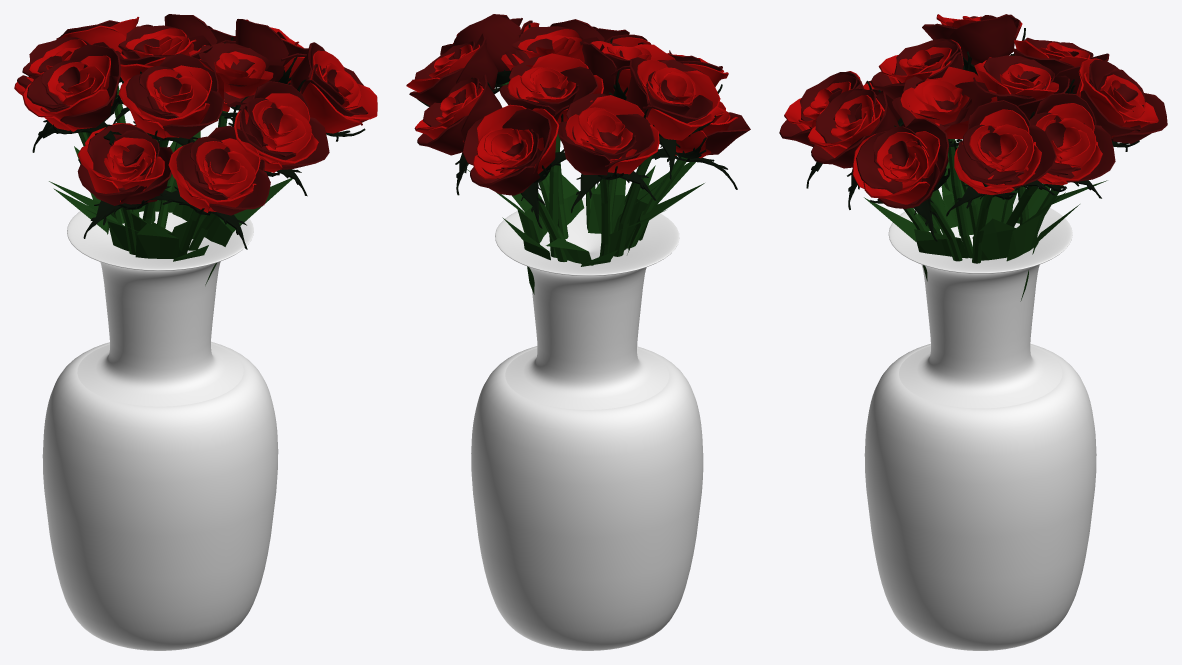
Rendered from roseVase2.FBX.
The picture shows the model from 3 angles, left to right: view 1: azimuth 30°, elevation 25°; view 2: azimuth 150°, elevation 25°; view 3: azimuth 270°, elevation 25°; orthographic projection.
Parts seen in each view (by area): view 1: Flowerpot, rosePad144, Plane025, roseGroupLeaf, rosePad230, roseGroupLeaf008, rosePad234, rosePad208, rosePad195, rosePad222, rosePad243, rosePad201 (+23 smaller); view 2: Flowerpot, rosePad157, rosePad248, rosePad261, rosePad269, Plane031, rosePad144, rosePad256, rosePad209, roseGroupLeaf009, rosePad286, rosePad221 (+26 smaller); view 3: Flowerpot, rosePad196, rosePad165, roseGroupLeaf007, roseGroupLeaf006, rosePad143, rosePad152, rosePad286, vine007, rosePad261, roseGroupLeaf008, rosePad162 (+23 smaller).
Boxes of the visible parts, box(x1,y1,x2,y2) form: Flowerpot: box(42, 211, 278, 650); rosePad144: box(235, 19, 288, 65); Plane025: box(300, 82, 362, 133); roseGroupLeaf: box(135, 223, 179, 258); rosePad230: box(87, 123, 148, 191); roseGroupLeaf008: box(204, 178, 292, 285); rosePad234: box(209, 169, 270, 215); rosePad208: box(162, 88, 223, 138); rosePad195: box(60, 75, 118, 127); rosePad222: box(121, 147, 173, 204); rosePad243: box(176, 142, 227, 200); rosePad201: box(40, 89, 112, 129); Flowerpot: box(471, 198, 703, 650); rosePad157: box(453, 14, 520, 72); rosePad248: box(557, 121, 610, 175); rosePad261: box(470, 166, 540, 195); rosePad269: box(502, 108, 551, 173); Plane031: box(645, 108, 714, 140); rosePad144: box(456, 33, 497, 90); rosePad256: box(605, 114, 654, 168); rosePad209: box(580, 41, 616, 95); roseGroupLeaf009: box(588, 177, 625, 233); rosePad286: box(417, 115, 467, 155); rosePad221: box(705, 112, 750, 155); Flowerpot: box(864, 197, 1096, 650); rosePad196: box(948, 14, 1016, 65); rosePad165: box(856, 130, 921, 193); roseGroupLeaf007: box(972, 218, 1015, 260); roseGroupLeaf006: box(1006, 192, 1065, 261); rosePad143: box(1004, 125, 1056, 188); rosePad152: box(957, 141, 1024, 185); rosePad286: box(1057, 123, 1115, 182); vine007: box(948, 139, 972, 258); rosePad261: box(1111, 93, 1167, 143); roseGroupLeaf008: box(914, 229, 967, 281); rosePad162: box(863, 168, 933, 204).
Bounding box in the file's own units: 31.66 × 57.21 × 34.77.
